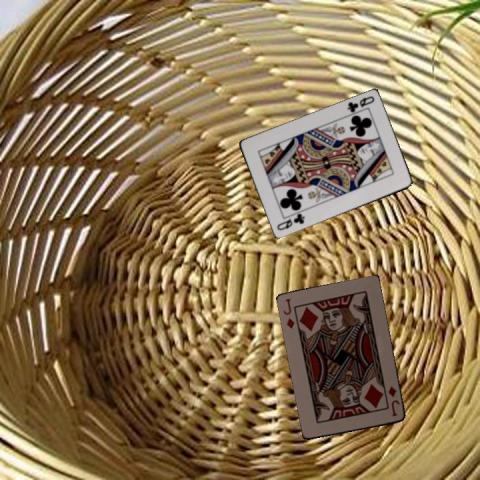Jd: (386, 383, 402, 418), (281, 296, 296, 330)
Qc: (273, 211, 306, 232), (344, 93, 376, 114)
